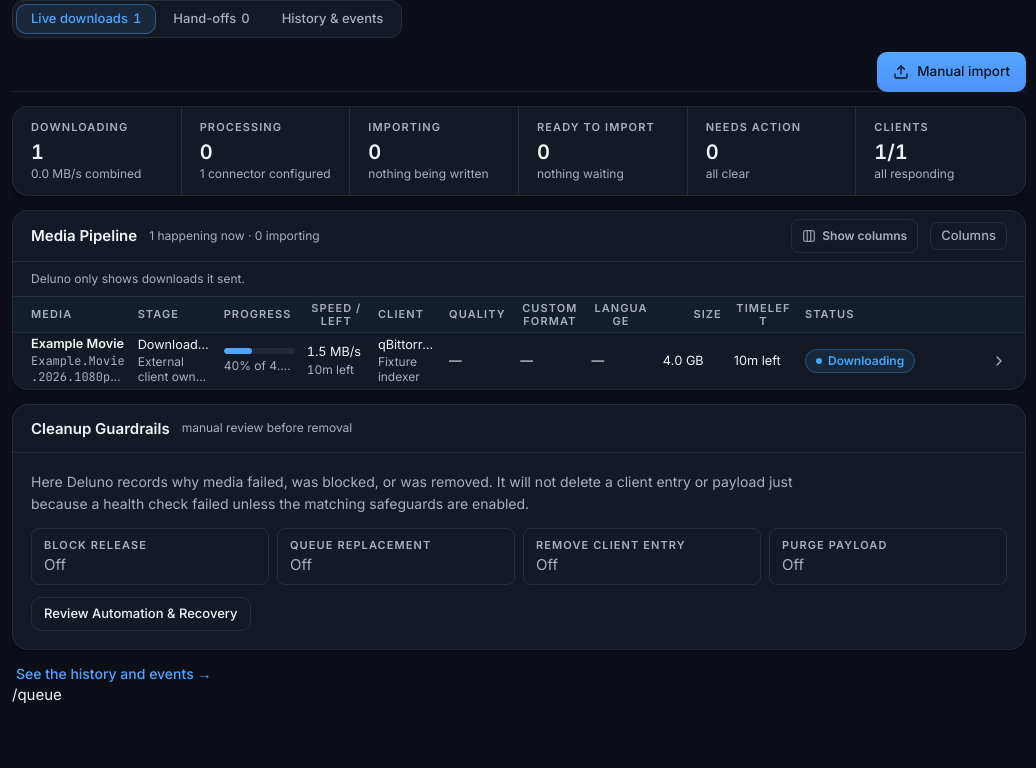
Test: In progress views › the chips write the view into the address, and Live downloads takes it out again
Click the radio button labelled "Hand-offs 0".
click(211, 19)  # box [158,4,265,34]
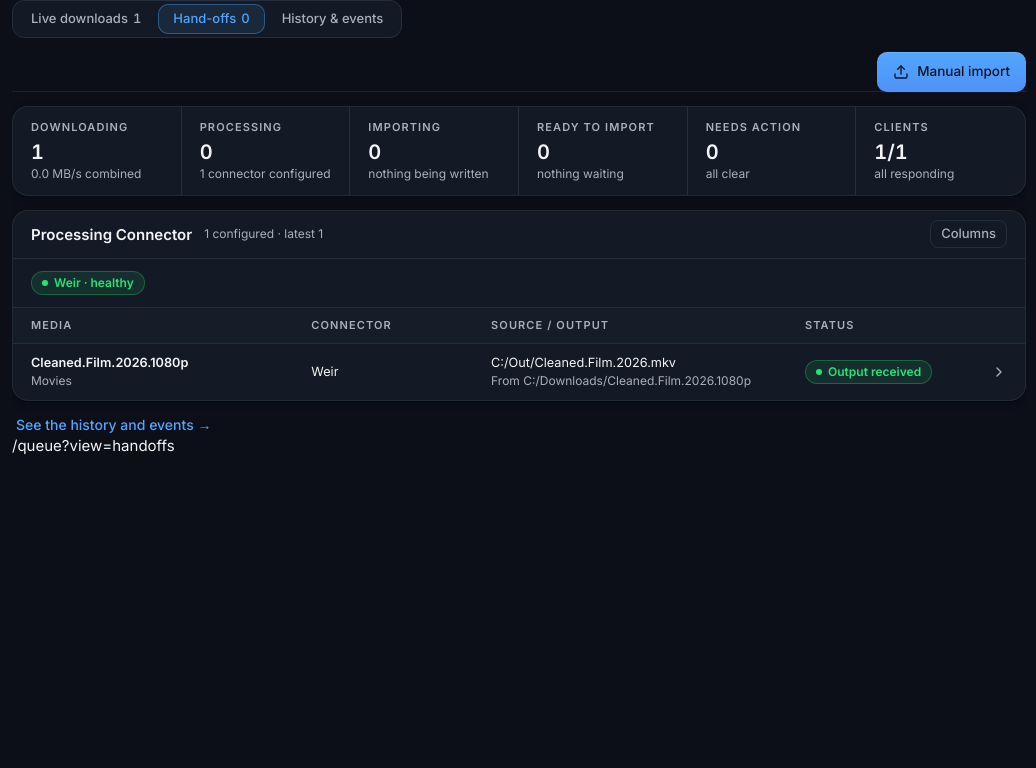
Result: the text with test id "where" reads "/queue?view=handoffs" at [12,436,175,455]
Result: the heading "Processing Connector" is shown at [31,226,192,242]
Click the radio button labelled "Live downloads 1".
click(86, 19)  # box [16,4,156,34]
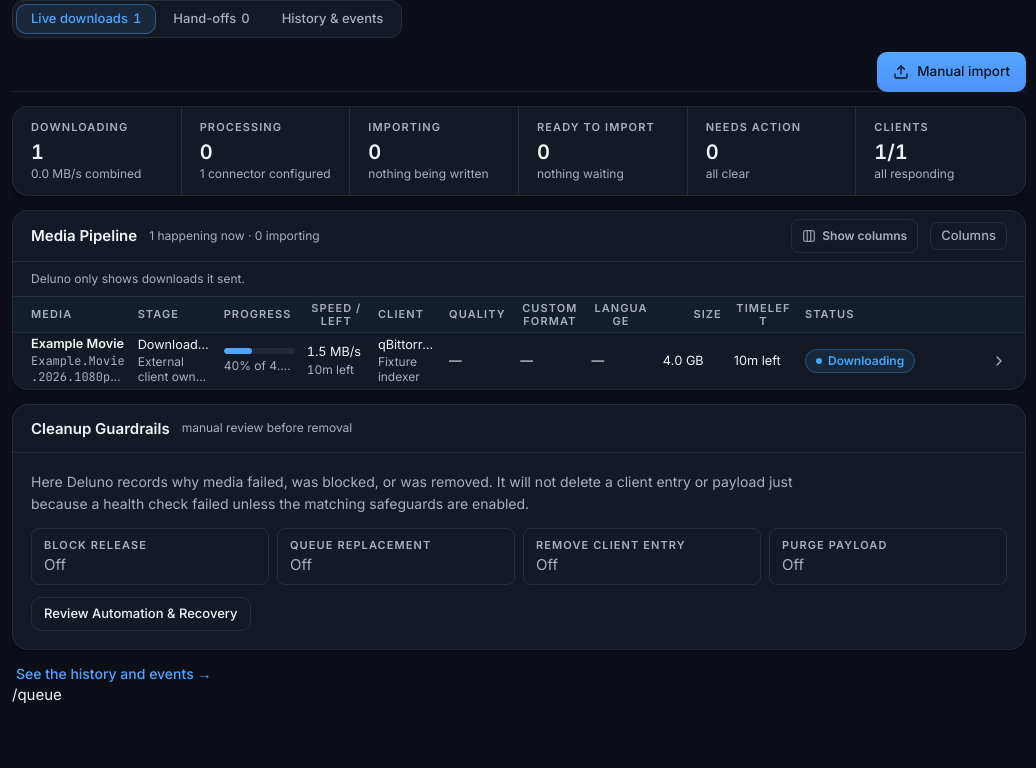
Result: the text with test id "where" reads "/queue" at [12,685,62,704]
Result: the heading "Media Pipeline" is shown at [31,228,137,243]
